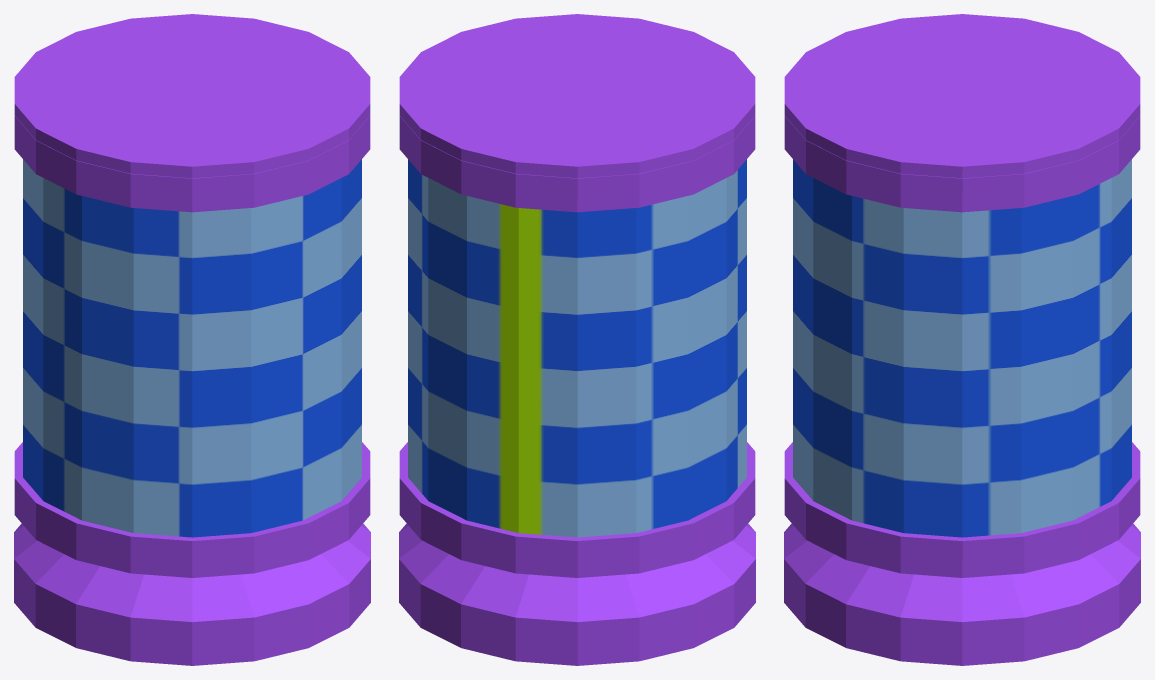
File: Light_Floor.fbx
3 views of the same model, side by side, from view 1: azimuth 30°, elevation 25°; view 2: azimuth 150°, elevation 25°; view 3: azimuth 270°, elevation 25° (orthographic).
Parts seen in each view (by area): view 1: LightFloor01_1; view 2: LightFloor01_1; view 3: LightFloor01_1.
Part boxes in pixels (x1=…): LightFloor01_1: x1=14, y1=14, x2=370, y2=665; LightFloor01_1: x1=399, y1=14, x2=755, y2=665; LightFloor01_1: x1=784, y1=14, x2=1140, y2=665.
Bounding box in the file's own units: 0.3863 × 0.5868 × 0.3804.
